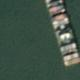ship: (60, 0, 64, 37)
